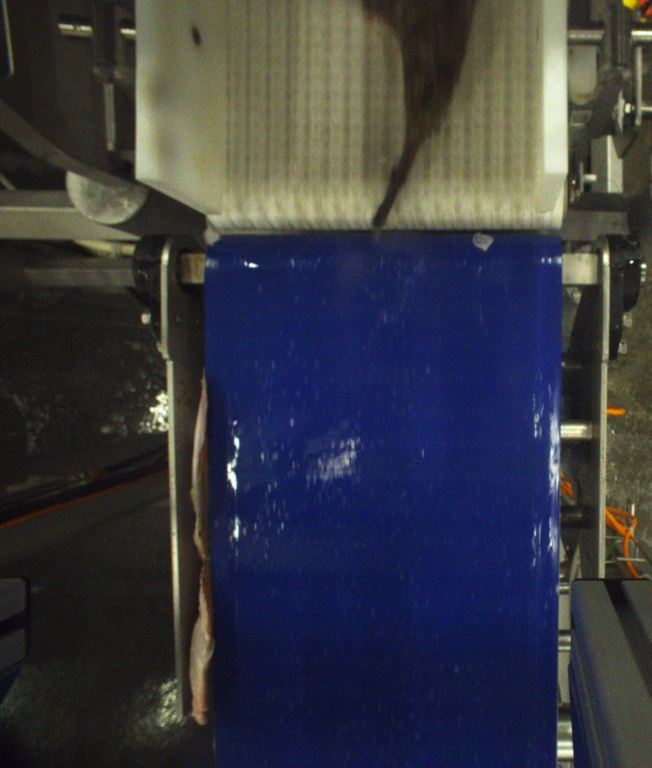ANF: (370, 0, 476, 238)
